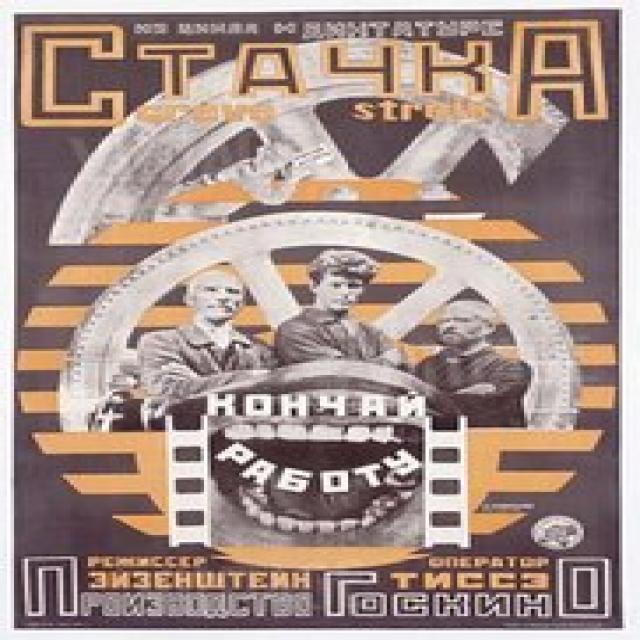movie-judul: (12, 16, 623, 134)
picture: (8, 8, 626, 627)
